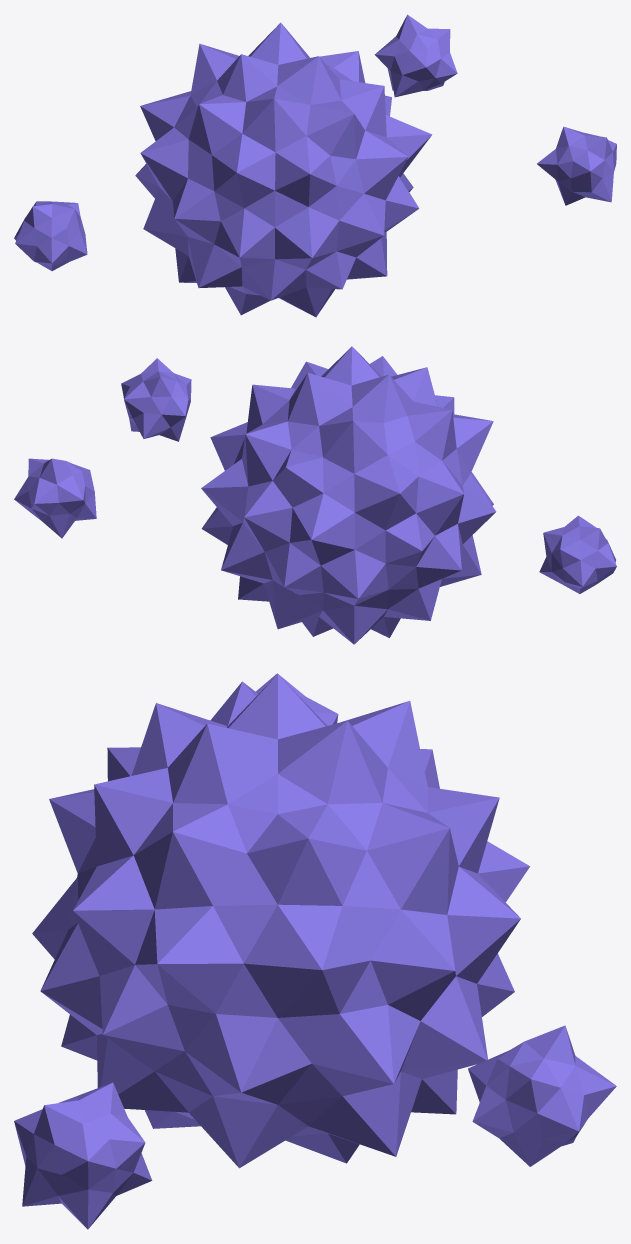
The picture shows the model from 3 angles, top to bottom: view 1: azimuth 30°, elevation 25°; view 2: azimuth 150°, elevation 25°; view 3: azimuth 270°, elevation 25°; orthographic projection. The views are drawn at different scales.
Parts seen in each view (by area): view 1: 球体, 球体.3, 球体.1, 球体.2; view 2: 球体, 球体.3, 球体.1, 球体.2; view 3: 球体, 球体.1, 球体.3.
Part boxes in pixels (left/top/right/bottom): 球体: left=135, top=22, right=432, bottom=317; 球体.3: left=374, top=14, right=457, bottom=97; 球体.1: left=537, top=126, right=616, bottom=205; 球体.2: left=14, top=201, right=87, bottom=270; 球体: left=201, top=346, right=496, bottom=644; 球体.3: left=14, top=458, right=96, bottom=538; 球体.1: left=121, top=358, right=191, bottom=441; 球体.2: left=539, top=515, right=616, bottom=593; 球体: left=32, top=674, right=529, bottom=1168; 球体.1: left=14, top=1082, right=152, bottom=1229; 球体.3: left=468, top=1025, right=616, bottom=1166.
Bounding box in the file's own units: 500 × 230 × 278.
